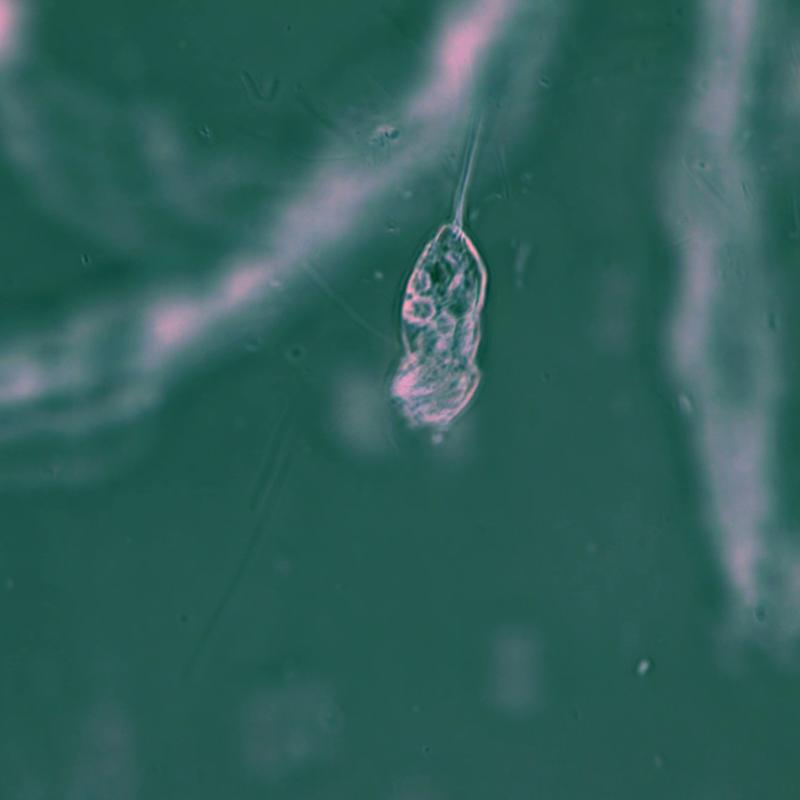depth:20: (375, 106, 543, 451)
